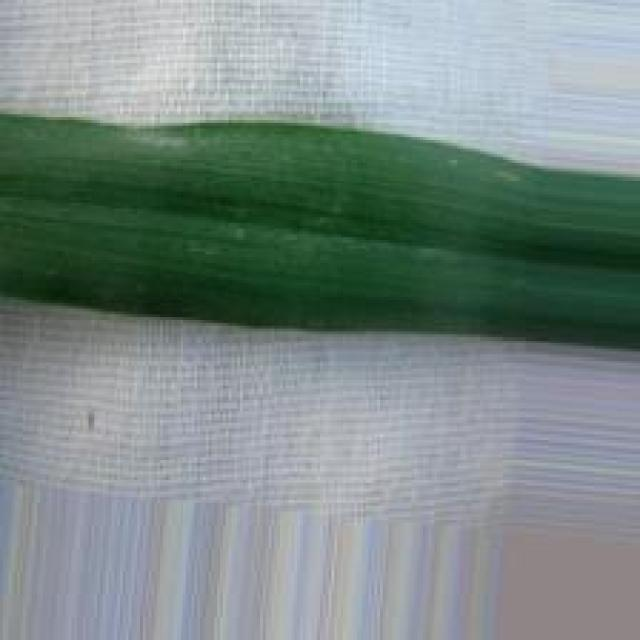Healthy: (0, 113, 640, 353)
